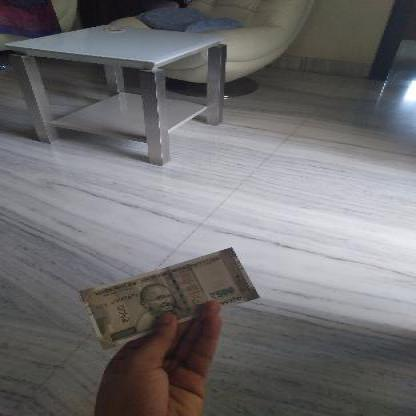New500Front: (78, 247, 258, 341)
